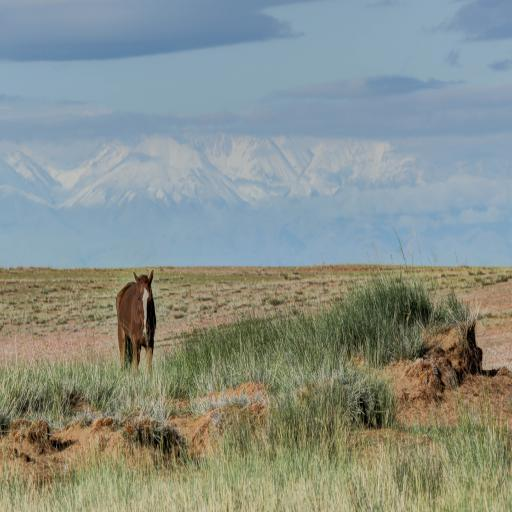horse: (115, 268, 158, 372)
